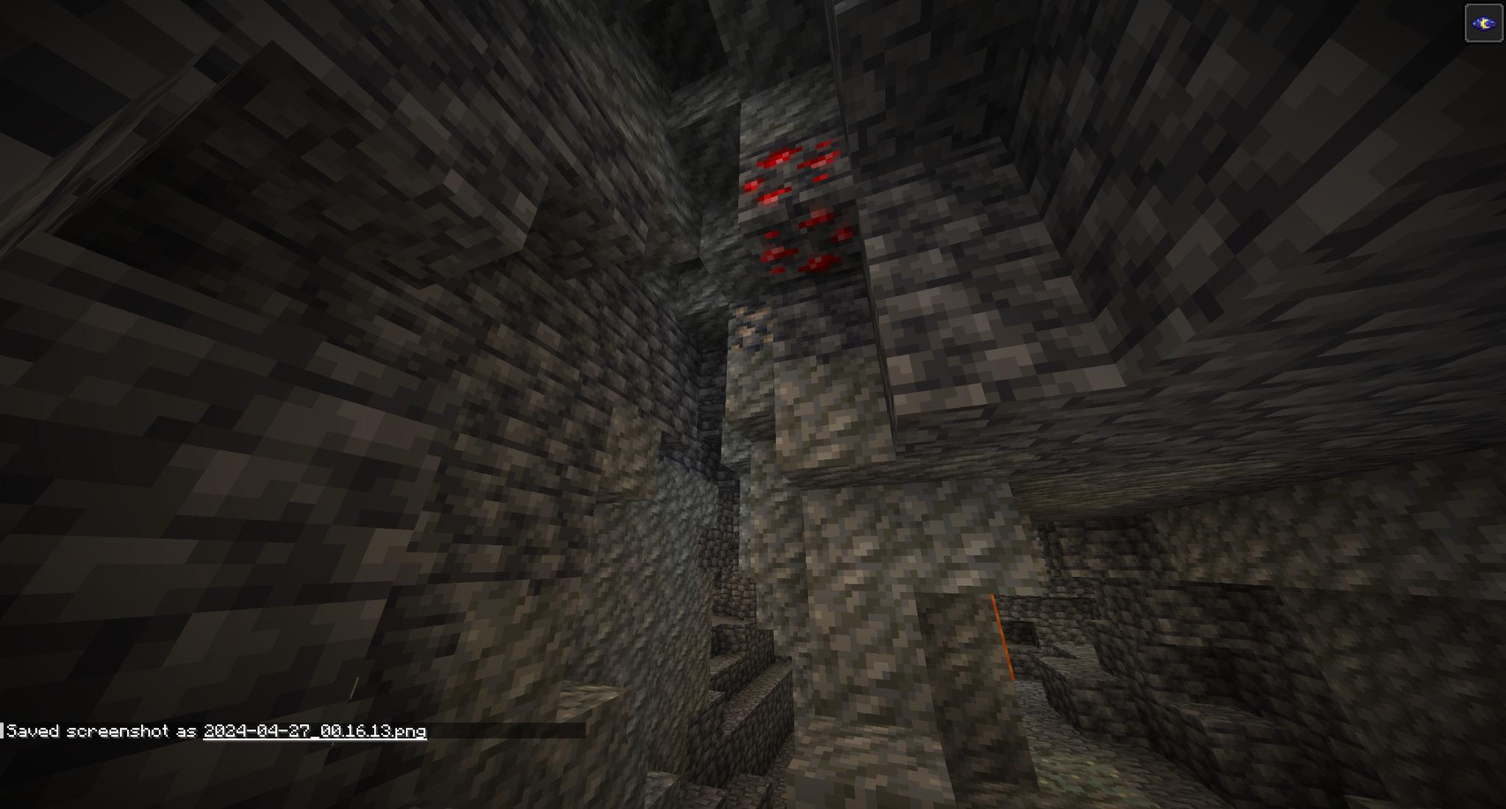redstone ore: (739, 144, 855, 276)
